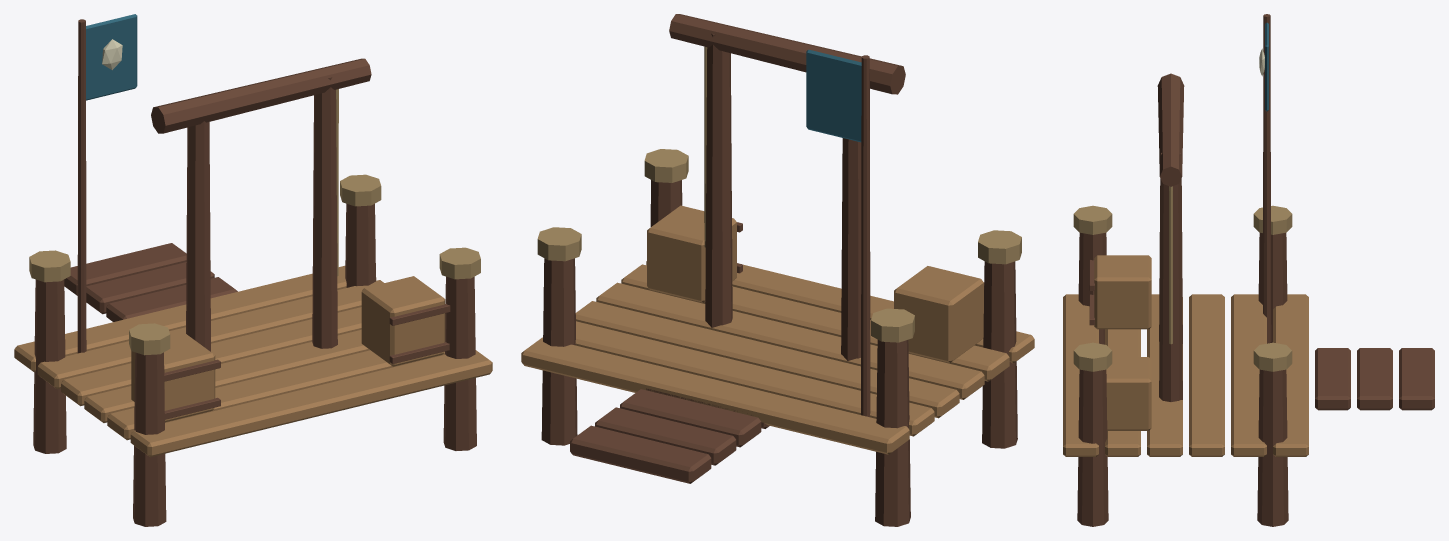
Rendered from port.glb.
The picture shows the model from 3 angles, left to right: view 1: azimuth 30°, elevation 25°; view 2: azimuth 150°, elevation 25°; view 3: azimuth 270°, elevation 25°; orthographic projection. The views are drawn at different scales.
Visible parts, largest first — view 1: Geometry; view 2: Geometry; view 3: Geometry.
Part boxes in pixels (<box>): Geometry: <box>14,14,492,526</box>; Geometry: <box>521,14,1034,526</box>; Geometry: <box>1063,14,1434,526</box>.
Bounding box in the file's own units: 3.02 × 3.5 × 3.1.
